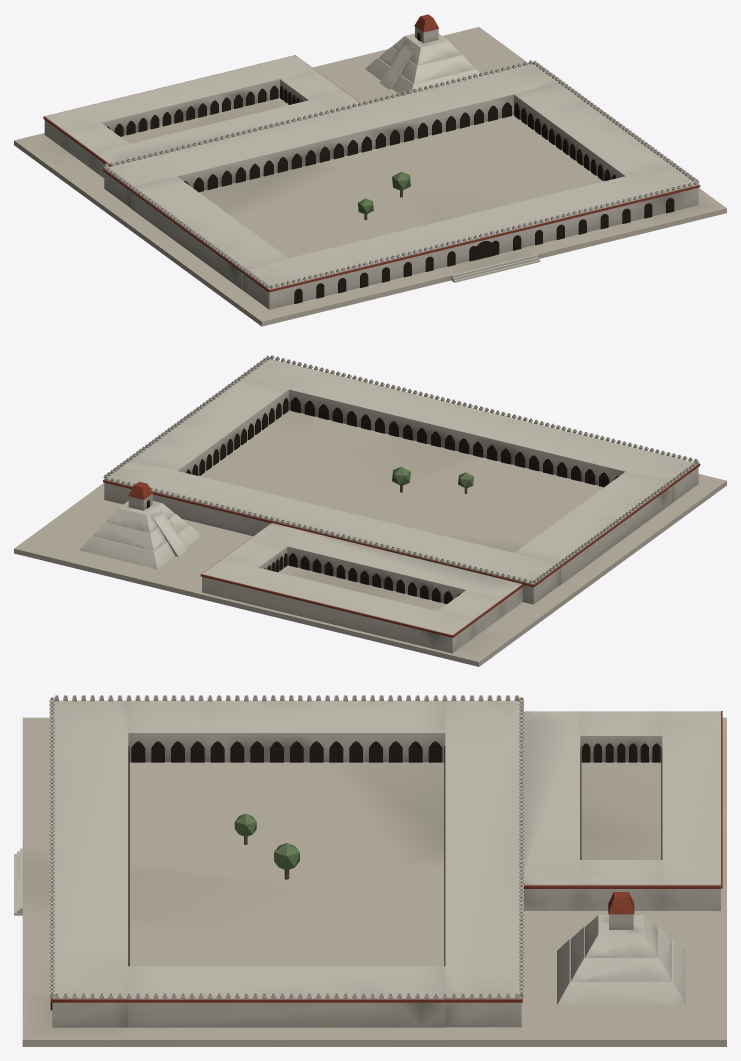
File: axayacatl-palace.glb
3 renders of one model, top to bottom at view 1: azimuth 30°, elevation 25°; view 2: azimuth 150°, elevation 25°; view 3: azimuth 270°, elevation 25°, orthographic. The views are drawn at different scales.
Visible parts, largest first — view 1: p1_courts, p0_platform, p2_temple; view 2: p1_courts, p0_platform, p2_temple; view 3: p1_courts, p0_platform, p2_temple.
Boxes of the visible parts, x1,y1,x2,y2 form: p1_courts: (44, 55, 698, 309); p0_platform: (14, 27, 726, 326); p2_temple: (43, 14, 700, 292); p1_courts: (104, 359, 698, 653); p0_platform: (14, 410, 726, 666); p2_temple: (79, 355, 700, 637); p1_courts: (50, 700, 720, 1027); p0_platform: (14, 717, 726, 1046); p2_temple: (49, 695, 722, 1005).
Bounding box in the file's own units: 130 × 17.02 × 122.
